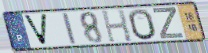8: (78, 11, 104, 44)
H: (100, 9, 134, 44)
I: (61, 12, 78, 46)
O: (127, 8, 158, 41)
V: (21, 13, 49, 47)
Z: (152, 7, 186, 41)
